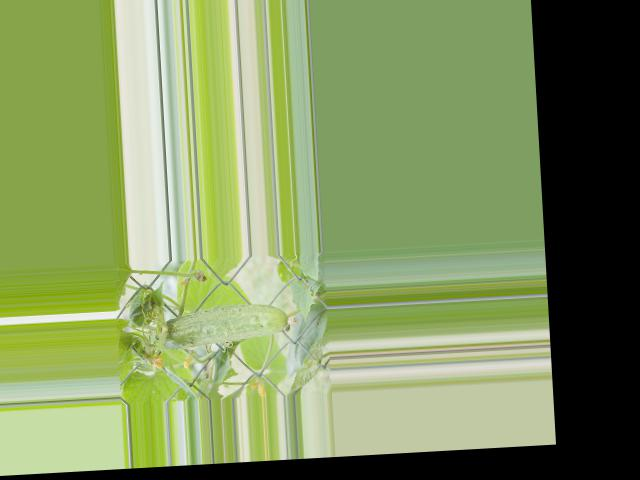cucumber: (154, 301, 297, 349)
